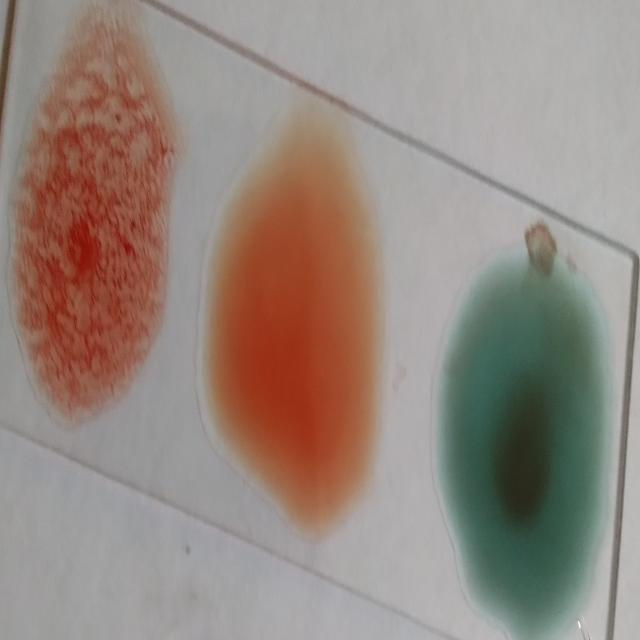D: (22, 5, 161, 422)
